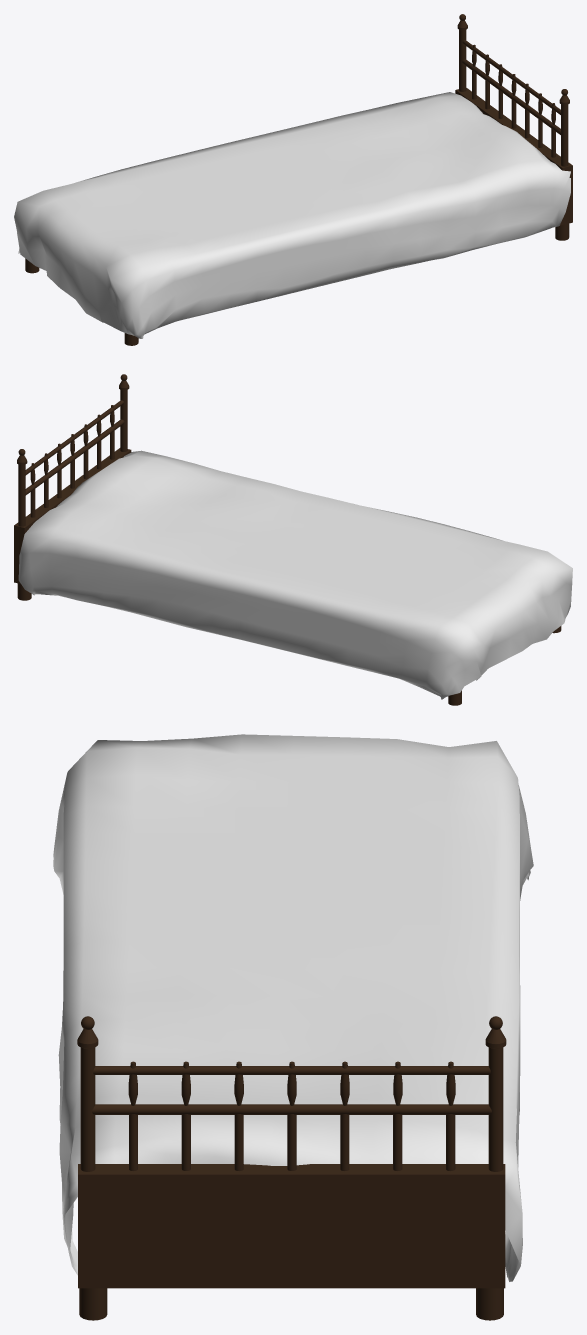
The model's file is SmallBed.fbx.
The picture shows the model from 3 angles, top to bottom: view 1: azimuth 30°, elevation 25°; view 2: azimuth 150°, elevation 25°; view 3: azimuth 270°, elevation 25°; orthographic projection. The views are drawn at different scales.
Visible parts, largest first — view 1: Blanket.001, Frame.001; view 2: Blanket.001, Frame.001; view 3: Blanket.001, Frame.001.
Part boxes in pixels (<box>): Blanket.001: <box>14,92,570,338</box>; Frame.001: <box>25,14,572,345</box>; Blanket.001: <box>18,450,572,699</box>; Frame.001: <box>14,374,561,705</box>; Blanket.001: <box>53,734,533,1281</box>; Frame.001: <box>77,1016,506,1320</box>.
Bounding box in the file's own units: 2.12 × 0.9594 × 0.6581.
